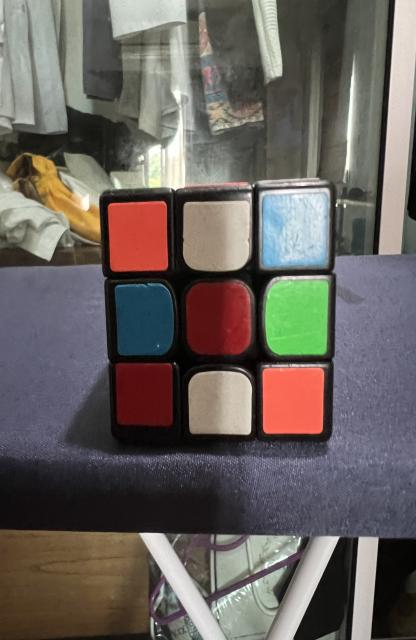Blue: (262, 190, 329, 268), (115, 284, 174, 355)
Green: (265, 280, 329, 355)
Orange: (107, 201, 168, 272), (262, 368, 324, 434)
Red: (186, 281, 251, 355), (115, 362, 173, 426)
White: (183, 200, 250, 271), (188, 370, 252, 435)
